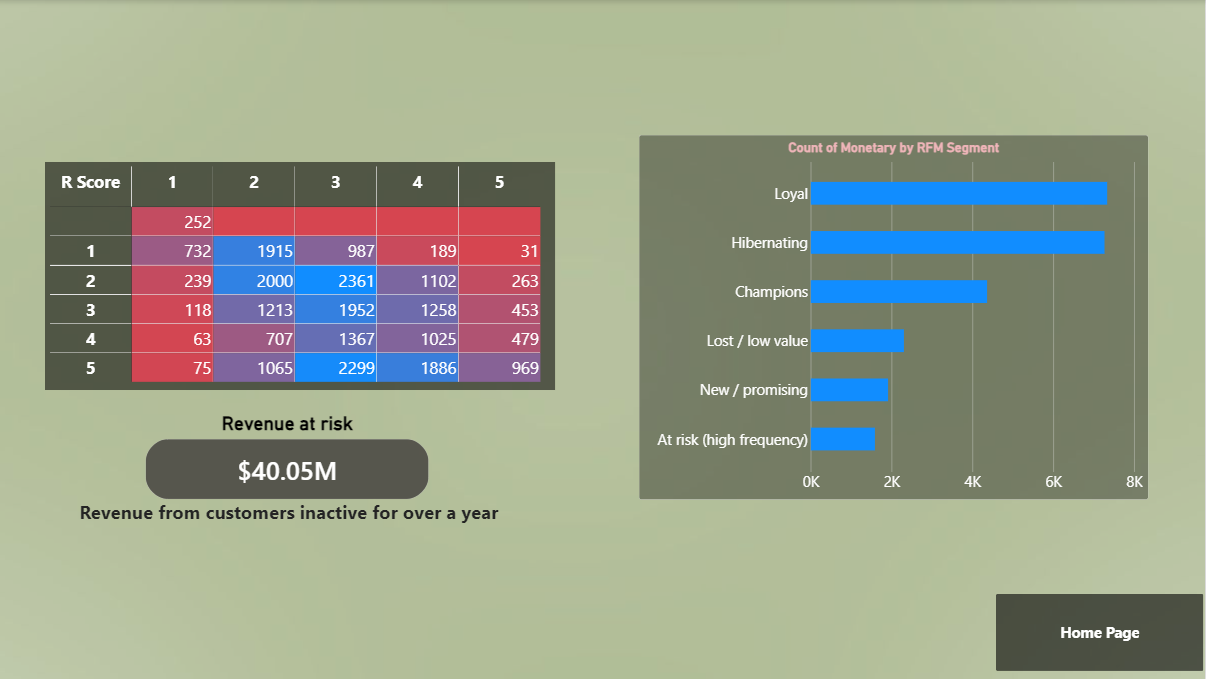

This screenshot's page, from the dashboard's own definition file:
{"tool":"powerbi","page":{"name":"Customer Value/RFM","canvas":[3840,2160],"ordinal":5},"visuals":[{"type":"pivotTable","fields":{"Columns":["Customer_Dim.F Score"],"Rows":["Customer_Dim.R Score"],"Values":["Count(Customer_Dim.customer_id)"]},"box":[152.7,515.4,1622.4,725.3],"z":0},{"type":"clusteredBarChart","fields":{"Category":["Customer_Dim.RFM Segment"],"Y":["CountNonNull(Customer_Dim.Monetary)"]},"box":[2040,430,1620,1160],"z":1000},{"type":"cardVisual","title":"Revenue at risk","fields":{"Data":["Sum(Customer_Dim.Monetary)"]},"box":[472.4,1312.3,901.9,276.8],"z":2000},{"type":"textbox","box":[262.5,1589,1398.1,114.5],"z":3000},{"type":"actionButton","box":[3179.9,1889.8,660.1,244.9],"z":3001}]}

Visuals, with their boxes in screenshot pixels (x1, y1, x2, y2), scaled from the page's 3840x2160 canvas onto the 1206x679 screenshot:
pivotTable - Customer_Dim.F Score x Customer_Dim.R Score: box(48, 162, 557, 390)
clusteredBarChart - Customer_Dim.RFM Segment x CountNonNull(Customer_Dim.Monetary): box(641, 135, 1149, 500)
"Revenue at risk" cardVisual: box(148, 413, 432, 500)
textbox: box(82, 500, 522, 535)
actionButton: box(999, 594, 1205, 671)
